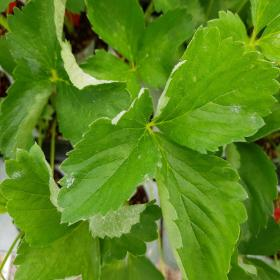Powdery Mildew Leaf: (151, 25, 279, 155), (56, 87, 162, 226), (0, 142, 83, 248), (55, 38, 132, 149), (88, 199, 163, 269), (6, 0, 67, 79)
